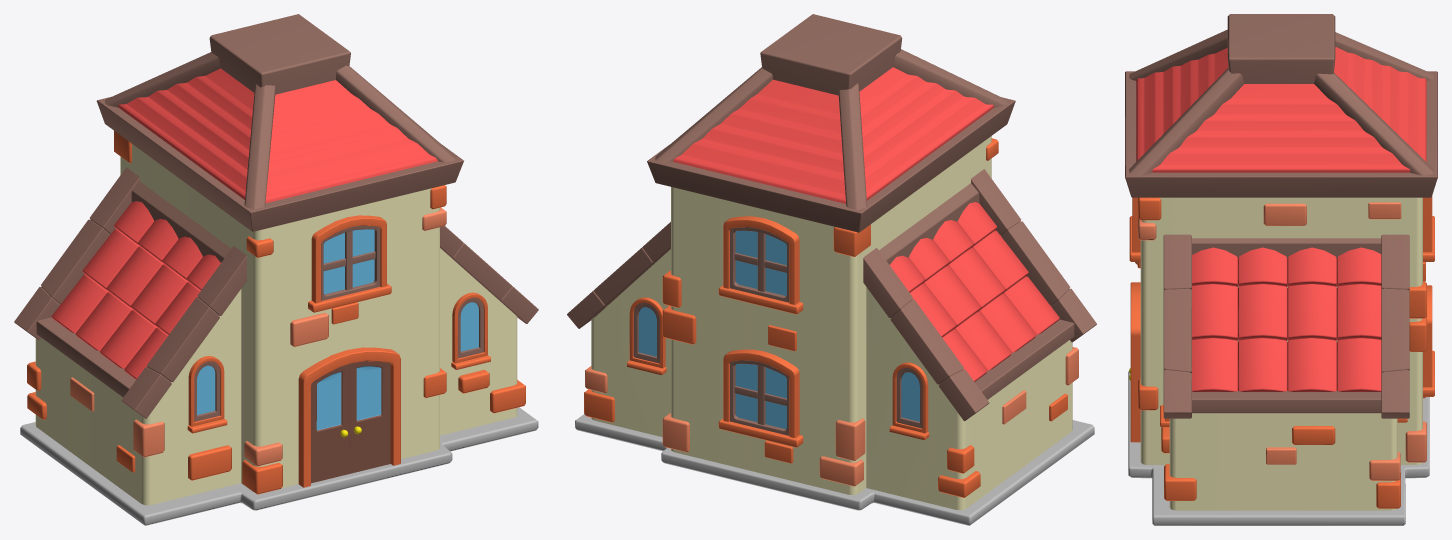
File: Town_8_House_1.glb
The picture shows the model from 3 angles, left to right: view 1: azimuth 30°, elevation 25°; view 2: azimuth 150°, elevation 25°; view 3: azimuth 270°, elevation 25°; orthographic projection.
Parts seen in each view (by area): view 1: Town_8_House_1; view 2: Town_8_House_1; view 3: Town_8_House_1.
Part boxes in pixels (<box>): Town_8_House_1: <box>14,14,538,525</box>; Town_8_House_1: <box>567,14,1096,525</box>; Town_8_House_1: <box>1125,14,1437,525</box>.
Bounding box in the file's own units: 8.94 × 8.18 × 5.88.
1 material, 1 textured.
